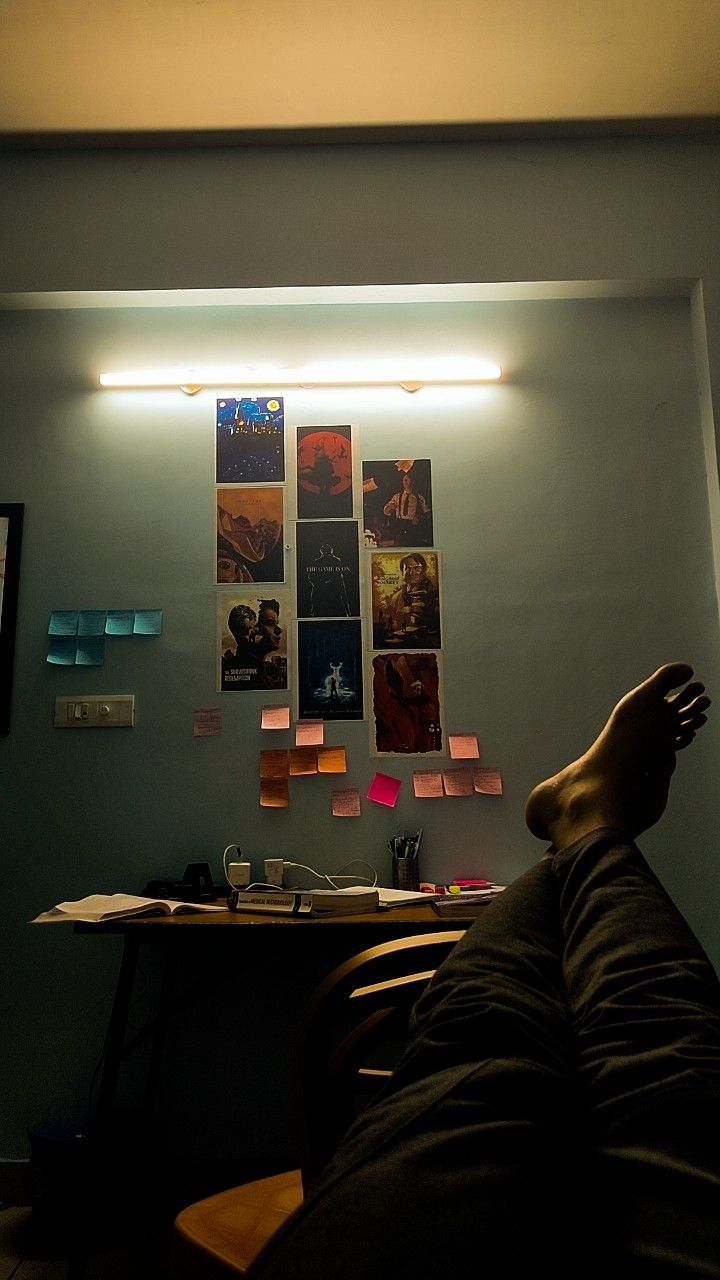not a gesture sign: (87, 14, 615, 681)
